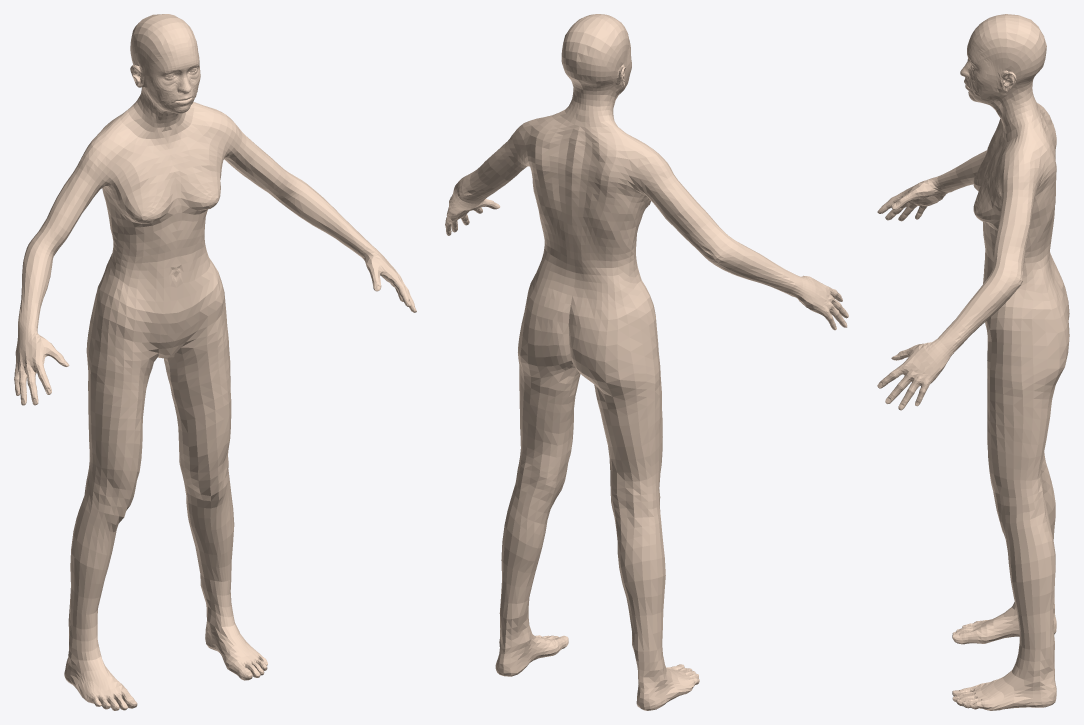
The model's file is female-older-lean-strong.glb.
3 renders of one model, left to right at view 1: azimuth 30°, elevation 25°; view 2: azimuth 150°, elevation 25°; view 3: azimuth 270°, elevation 25°, orthographic.
Visible parts, largest first — view 1: world; view 2: world; view 3: world.
Part boxes in pixels (x1=…): world: x1=14, y1=14, x2=416, y2=710; world: x1=445, y1=14, x2=848, y2=710; world: x1=877, y1=14, x2=1069, y2=710.
Size of the model in its own units: 1.13 by 1.8 by 0.4799.
